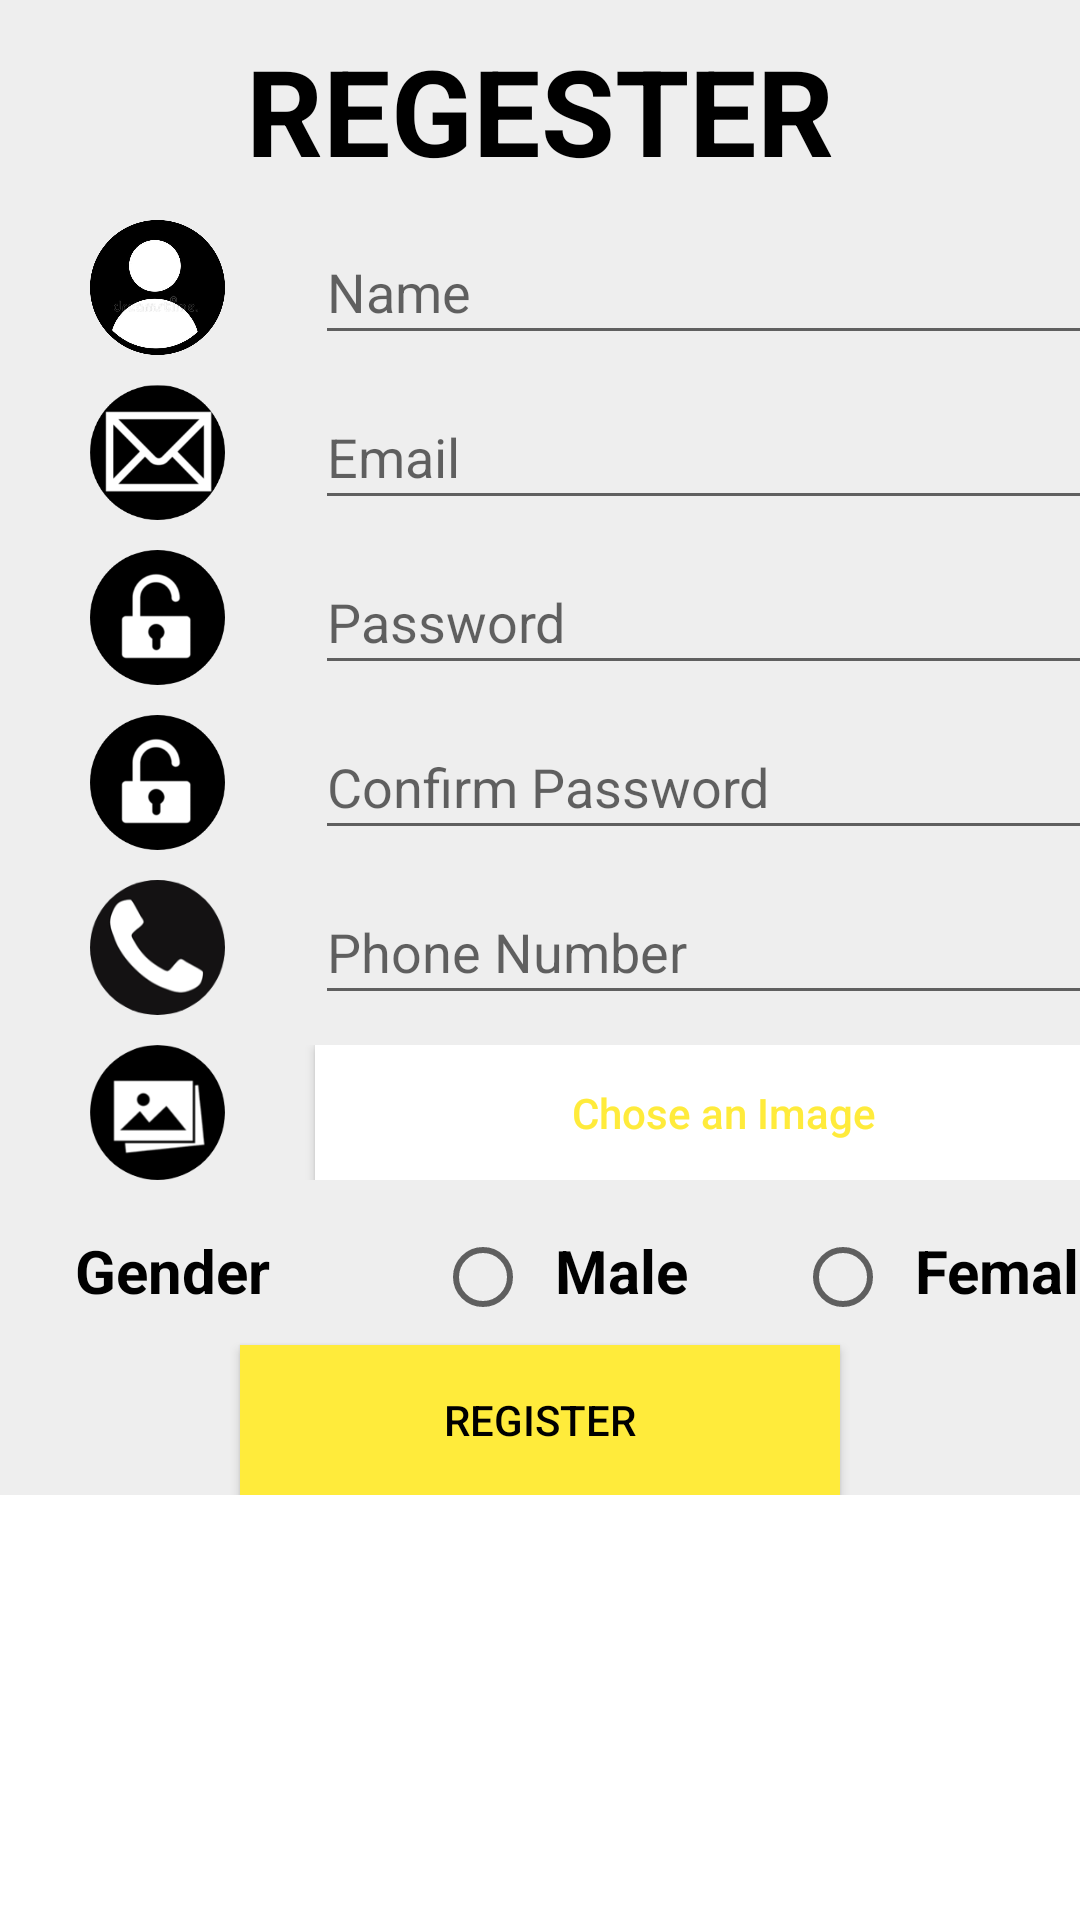

Screen size 1080*1920. Icon name, then its center in pixels as point (x, y):
gallery: point (157, 1112)
lock: point (157, 617), point (157, 782)
person: point (157, 287)
